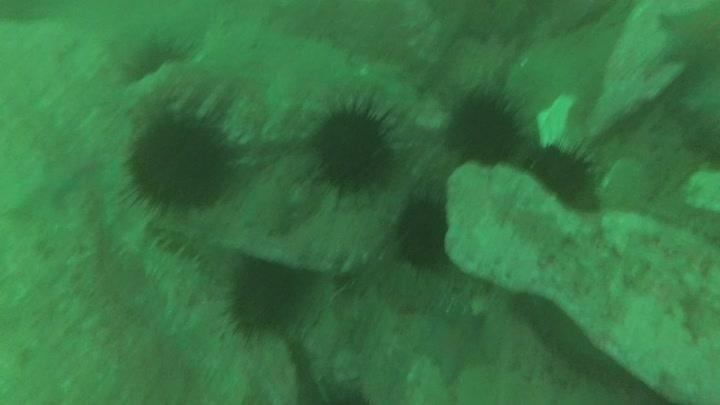echinus: (122, 104, 236, 215), (308, 98, 400, 196), (443, 87, 526, 167), (224, 259, 305, 337), (526, 140, 601, 210), (391, 191, 452, 272), (119, 32, 197, 88)
holothurian: (343, 254, 478, 321), (146, 217, 237, 284), (134, 239, 216, 304)
starfish: (413, 308, 494, 384), (3, 158, 78, 223), (654, 4, 719, 75)
